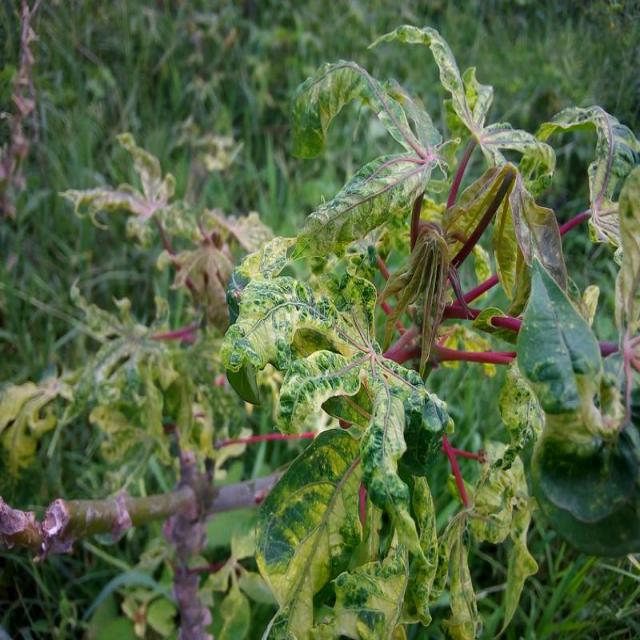cassava leaf: (220, 22, 638, 638), (253, 425, 365, 638), (514, 255, 602, 415)
